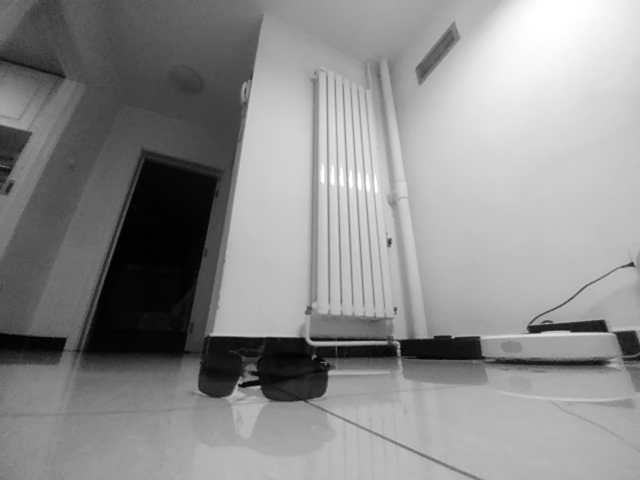others: (195, 344, 334, 404)
